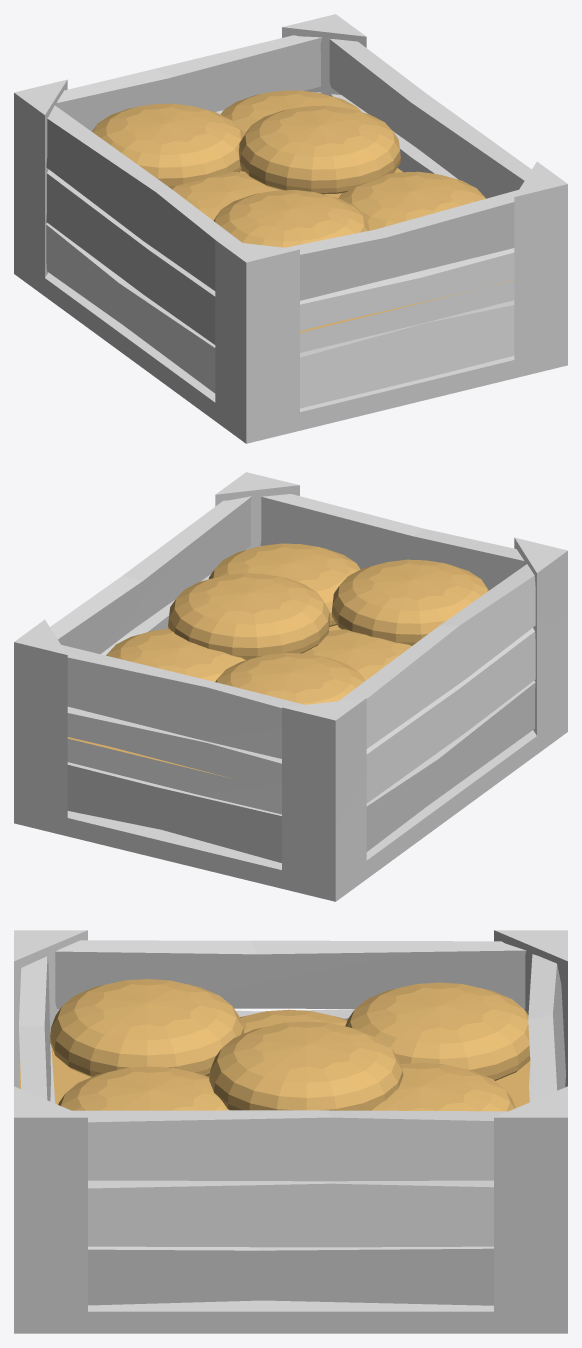
File: BunTopCrate.fbx
The picture shows the model from 3 angles, top to bottom: view 1: azimuth 30°, elevation 25°; view 2: azimuth 150°, elevation 25°; view 3: azimuth 270°, elevation 25°; orthographic projection. The views are drawn at different scales.
Visible parts, largest first — view 1: BunTopCrate; view 2: BunTopCrate; view 3: BunTopCrate.
Part boxes in pixels (x1,y1,x2,y2): BunTopCrate: (14, 14, 567, 443); BunTopCrate: (14, 472, 567, 901); BunTopCrate: (14, 930, 567, 1333).
Size of the model in its own units: 161 by 86.16 by 200.
